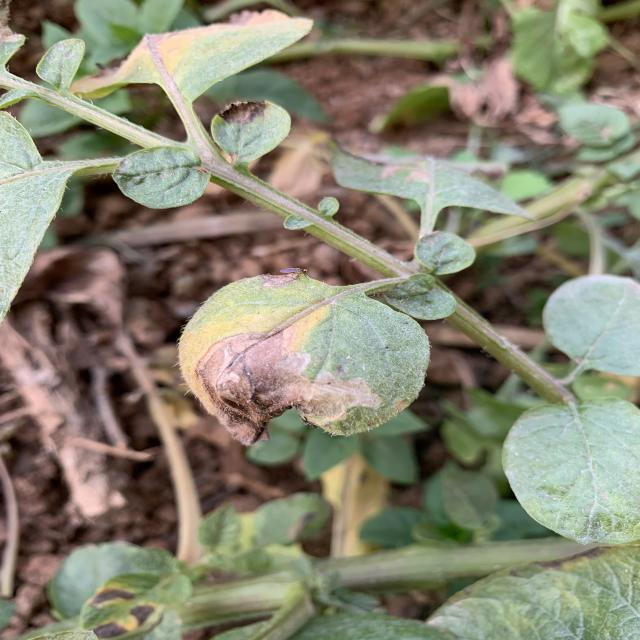lateblight: (195, 321, 333, 445), (295, 372, 398, 435)
